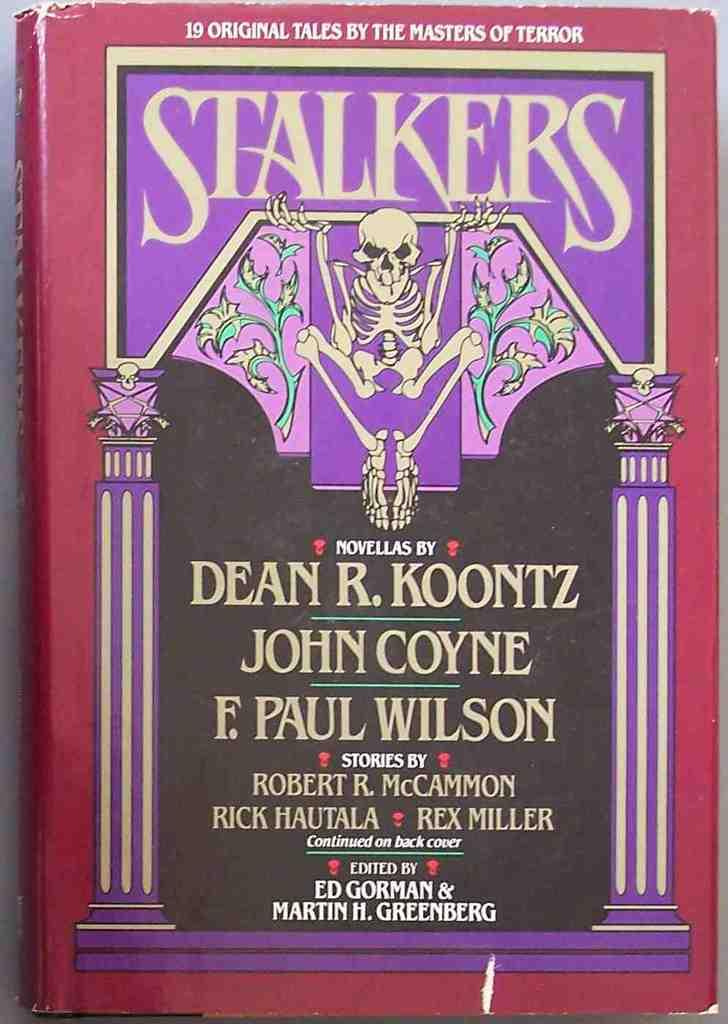book: (14, 0, 721, 1022)
